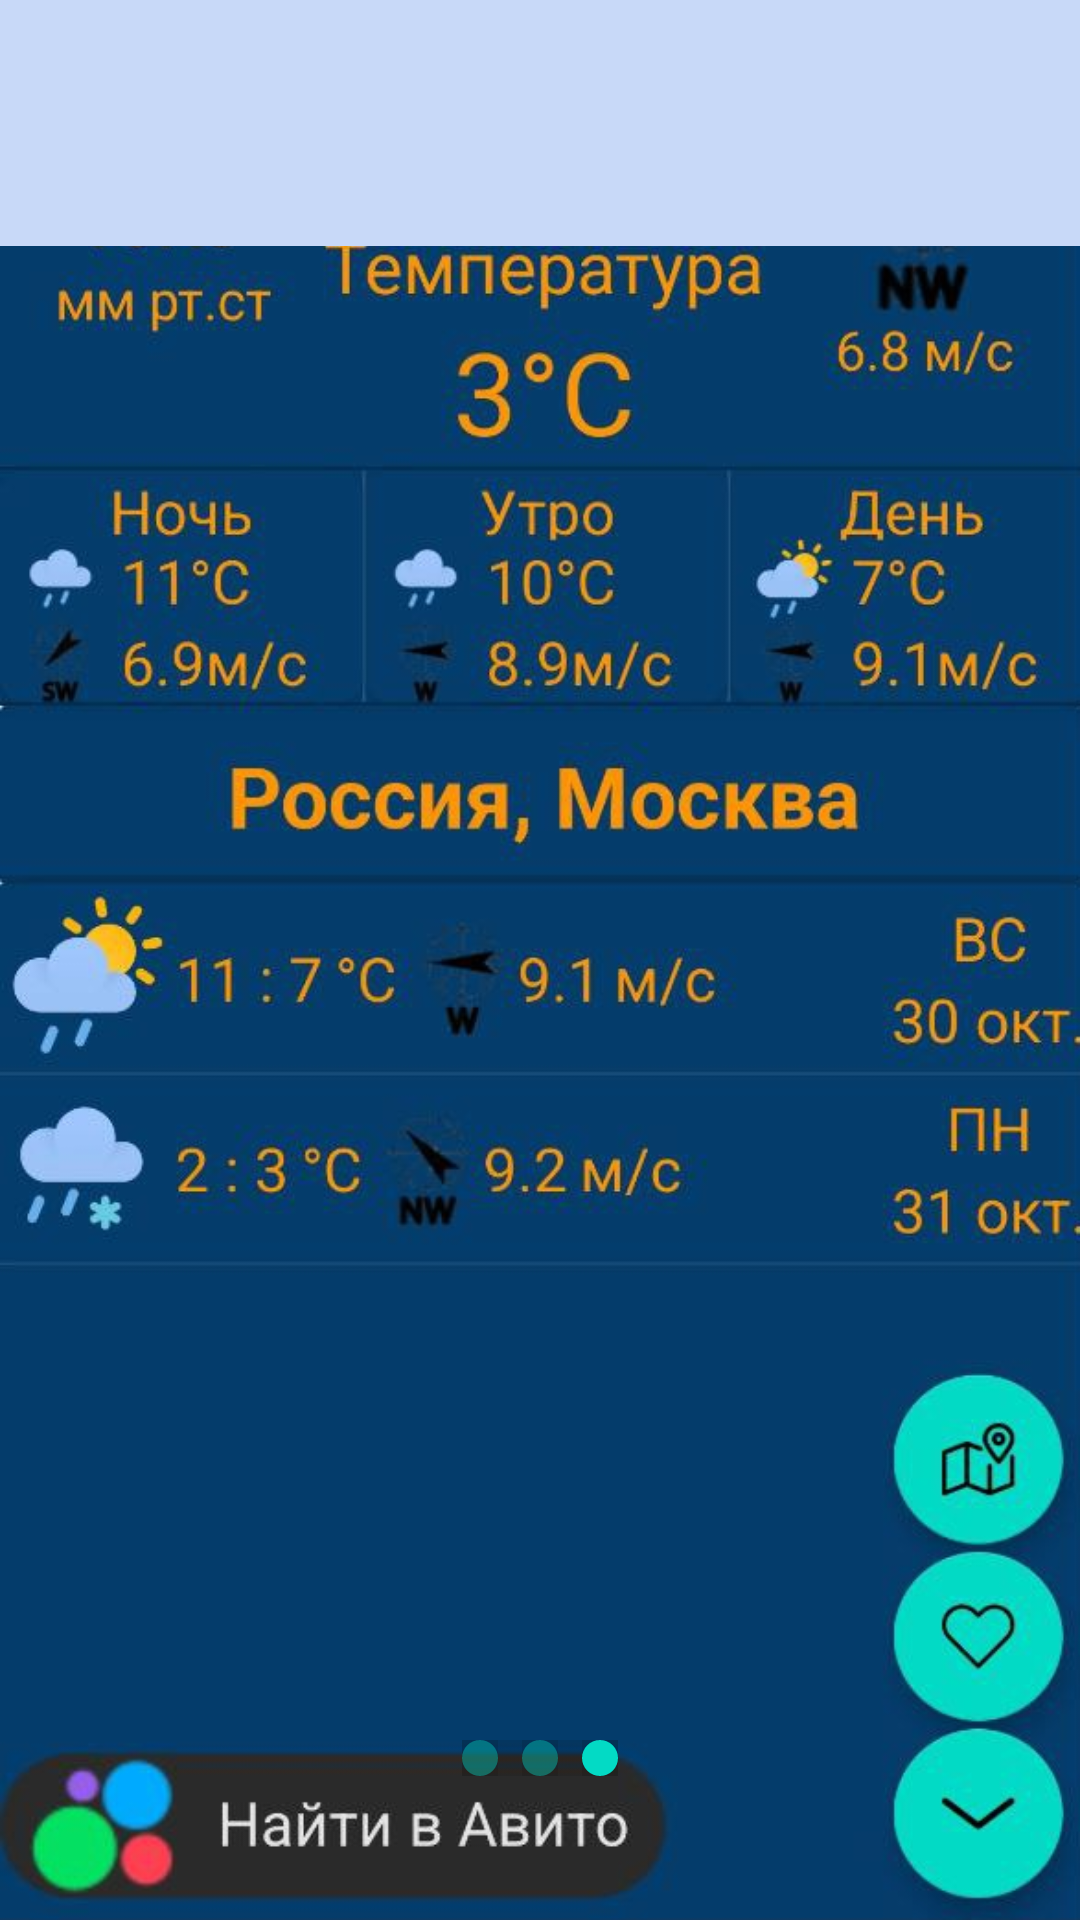

Named icons in this screenshot (1080×1920) and their centers, (x=x, y=y):
swipe indicator: (x=600, y=1758)
swipe indicator passive: (x=480, y=1758), (x=540, y=1758)
